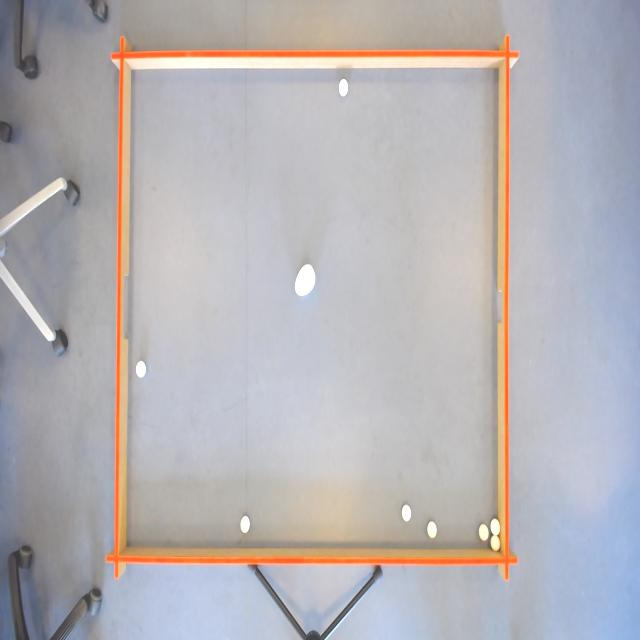egg: (293, 261, 317, 300)
white_ball: (336, 76, 351, 100), (134, 357, 148, 381), (477, 521, 490, 544), (425, 518, 438, 541), (400, 502, 412, 524), (239, 514, 251, 536), (489, 515, 500, 538), (489, 534, 501, 554)
